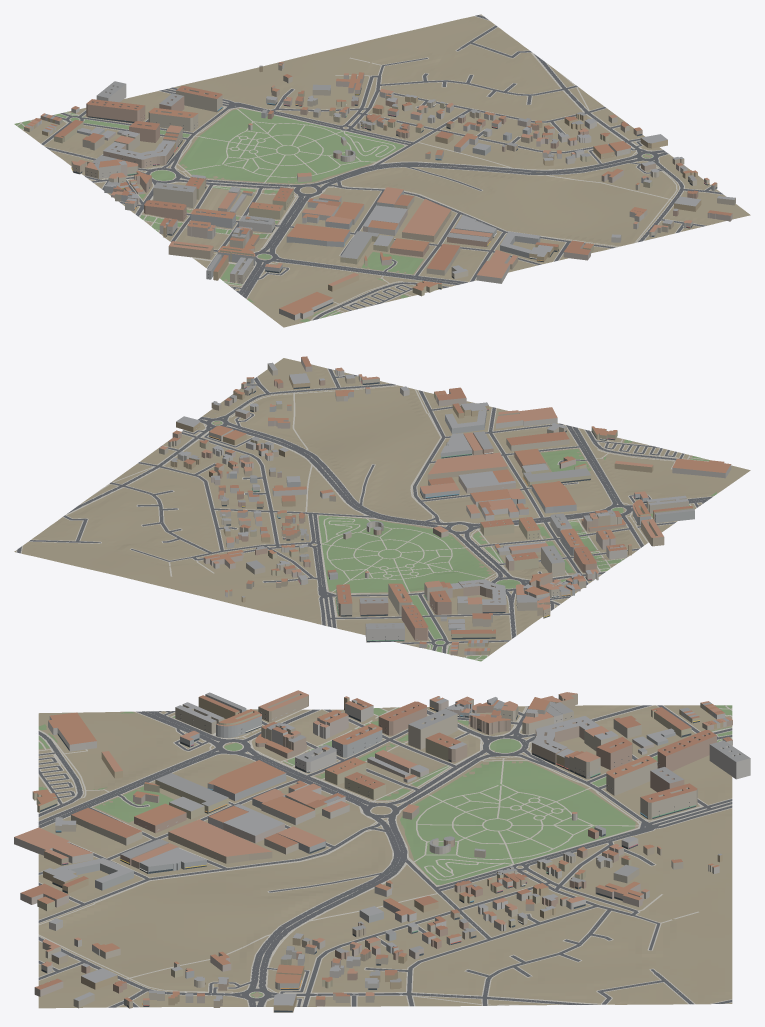
The picture shows the model from 3 angles, top to bottom: view 1: azimuth 30°, elevation 25°; view 2: azimuth 150°, elevation 25°; view 3: azimuth 270°, elevation 25°; orthographic projection. The views are drawn at different scales.
Visible parts, largest first — view 1: Ground, Walls, Roofs, Road, Sidewalk, Park, Detail; view 2: Ground, Walls, Roofs, Road, Sidewalk, Park, Detail; view 3: Ground, Walls, Roofs, Road, Sidewalk, Park, Detail.
Boxes of the visible parts, x1=… form: Ground: x1=21, y1=14, x2=750, y2=327; Walls: x1=24, y1=63, x2=735, y2=320; Roofs: x1=24, y1=62, x2=735, y2=314; Road: x1=41, y1=15, x2=723, y2=320; Sidewalk: x1=17, y1=14, x2=723, y2=320; Park: x1=14, y1=108, x2=652, y2=322; Detail: x1=71, y1=88, x2=717, y2=311; Ground: x1=14, y1=358, x2=750, y2=657; Walls: x1=159, y1=357, x2=731, y2=655; Roofs: x1=159, y1=356, x2=730, y2=651; Road: x1=17, y1=368, x2=712, y2=653; Sidewalk: x1=16, y1=368, x2=713, y2=660; Park: x1=212, y1=421, x2=716, y2=661; Detail: x1=209, y1=381, x2=654, y2=644; Ground: x1=38, y1=705, x2=732, y2=1008; Walls: x1=14, y1=693, x2=750, y2=1012; Roofs: x1=14, y1=690, x2=750, y2=1005; Road: x1=38, y1=705, x2=732, y2=1007; Sidewalk: x1=38, y1=705, x2=732, y2=1007; Park: x1=38, y1=705, x2=732, y2=997; Detail: x1=40, y1=707, x2=699, y2=1012.
Bounding box in the file's own units: 1049 × 40.38 × 1062.
